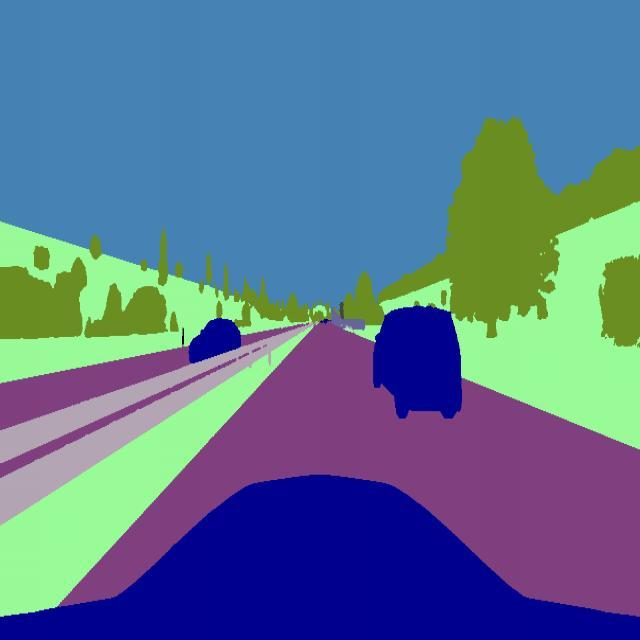safe: (373, 306, 464, 420), (188, 316, 242, 367)
